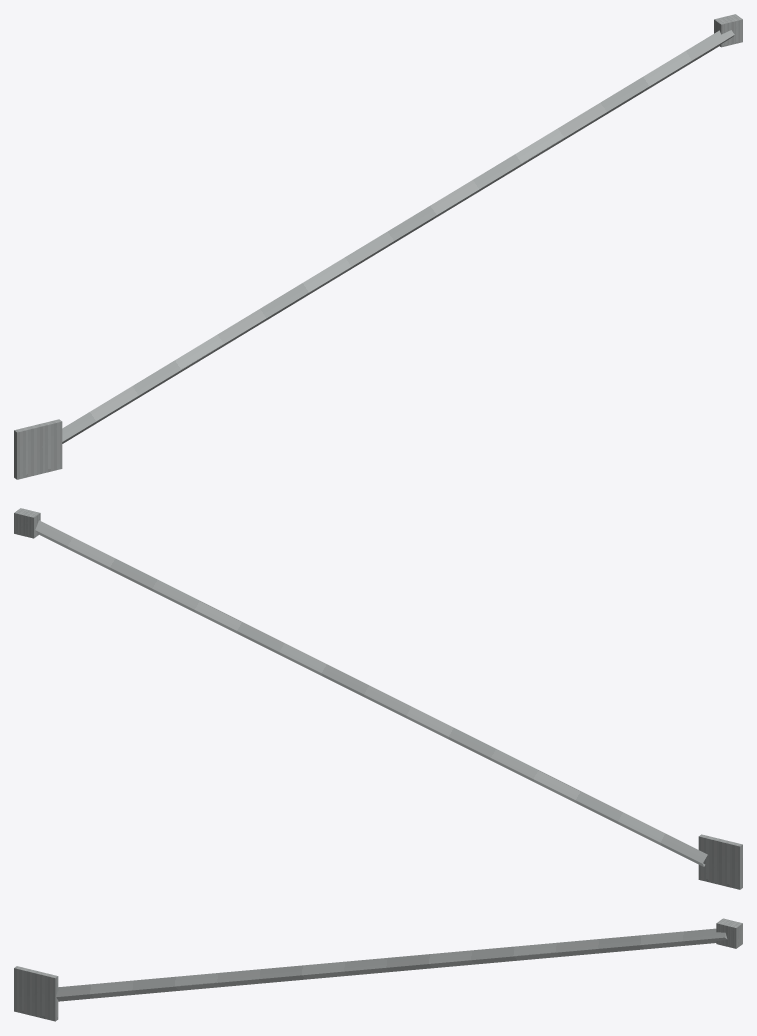
File: brace_r.obj
3 renders of one model, top to bottom at view 1: azimuth 30°, elevation 25°; view 2: azimuth 150°, elevation 25°; view 3: azimuth 330°, elevation 25°, orthographic. The views are drawn at different scales.
Parts seen in each view (by area): view 1: crossarm_alley_metal_7_r; view 2: crossarm_alley_metal_7_r; view 3: crossarm_alley_metal_7_r.
Boxes of the visible parts, <box> form: crossarm_alley_metal_7_r: <box>14,14,742,479</box>; crossarm_alley_metal_7_r: <box>14,508,742,889</box>; crossarm_alley_metal_7_r: <box>14,918,742,1021</box>.
Bounding box in the file's own units: 5.23 × 1.67 × 0.4625.
